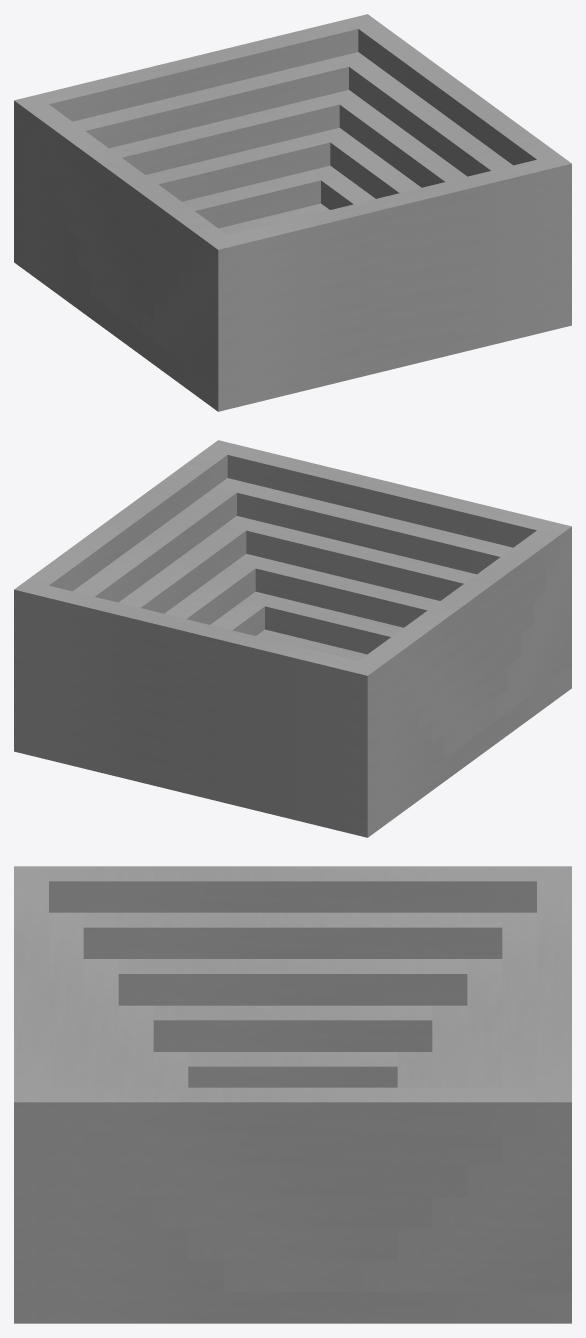
Rendered from mosaic_light_mono_base.obj.
3 renders of one model, top to bottom at view 1: azimuth 30°, elevation 25°; view 2: azimuth 150°, elevation 25°; view 3: azimuth 270°, elevation 25°, orthographic. The views are drawn at different scales.
Visible parts, largest first — view 1: 0, 7, 6, 12, 5, 11, 10, 9, 8, 4, 18, 24 (+12 smaller); view 2: 0, 6, 7, 1, 8, 2, 3, 4, 5, 9, 18, 24 (+12 smaller); view 3: 18, 24, 17, 0, 16, 22, 15, 23, 6, 7, 21, 5 (+12 smaller).
Part boxes in pixels (box(x1,y1,x2,y2)): 0: box(14, 239, 571, 411); 7: box(205, 154, 571, 272); 6: box(14, 14, 379, 132); 12: box(141, 279, 571, 388); 5: box(14, 52, 370, 164); 11: box(154, 256, 571, 365); 10: box(167, 233, 571, 342); 9: box(180, 210, 571, 319); 8: box(192, 187, 571, 295); 4: box(14, 90, 361, 197); 18: box(26, 104, 227, 262); 24: box(358, 23, 558, 165); 0: box(14, 665, 571, 837); 6: box(14, 580, 380, 698); 7: box(206, 440, 571, 558); 1: box(14, 705, 444, 814); 8: box(215, 478, 571, 590); 2: box(14, 682, 431, 791); 3: box(14, 659, 418, 768); 4: box(14, 636, 405, 745); 5: box(14, 613, 393, 721); 9: box(224, 516, 571, 623); 18: box(358, 530, 559, 688); 24: box(27, 449, 227, 591); 18: box(49, 866, 536, 912); 24: box(49, 1087, 536, 1133); 17: box(83, 912, 502, 958); 0: box(14, 1292, 571, 1323); 16: box(118, 959, 467, 1005); 22: box(83, 1134, 502, 1165); 15: box(153, 1005, 432, 1051); 23: box(118, 1165, 467, 1196); 6: box(537, 866, 571, 1133); 7: box(14, 866, 48, 1133); 21: box(153, 1197, 432, 1228); 5: box(502, 912, 571, 1165).
Bounding box in the file's own units: 16 × 7 × 16.
